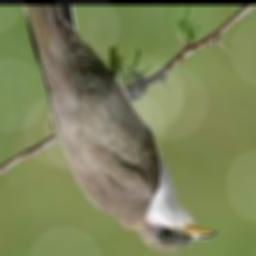Cuckoo: (22, 5, 217, 252)
